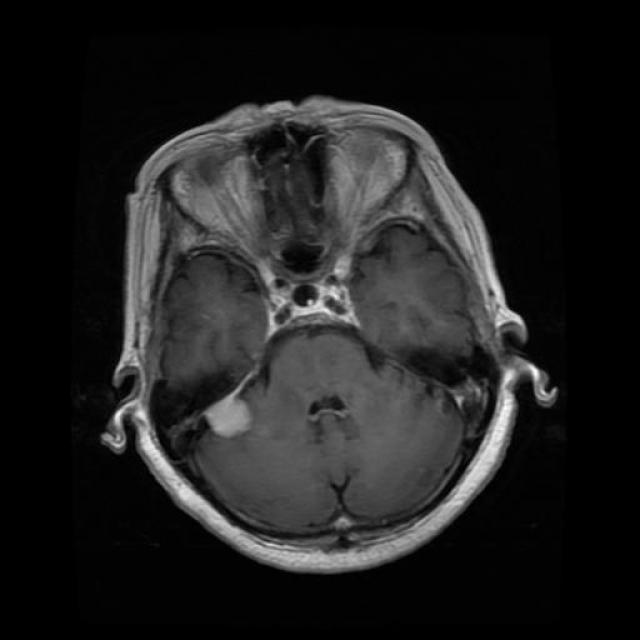meningioma: (204, 395, 252, 439)
